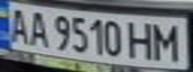0: (103, 17, 127, 57)
1: (87, 16, 106, 56)
5: (66, 14, 87, 53)
9: (48, 11, 72, 52)
A: (3, 4, 33, 45), (24, 8, 51, 47)
H: (127, 19, 157, 61)
M: (148, 20, 187, 62)
